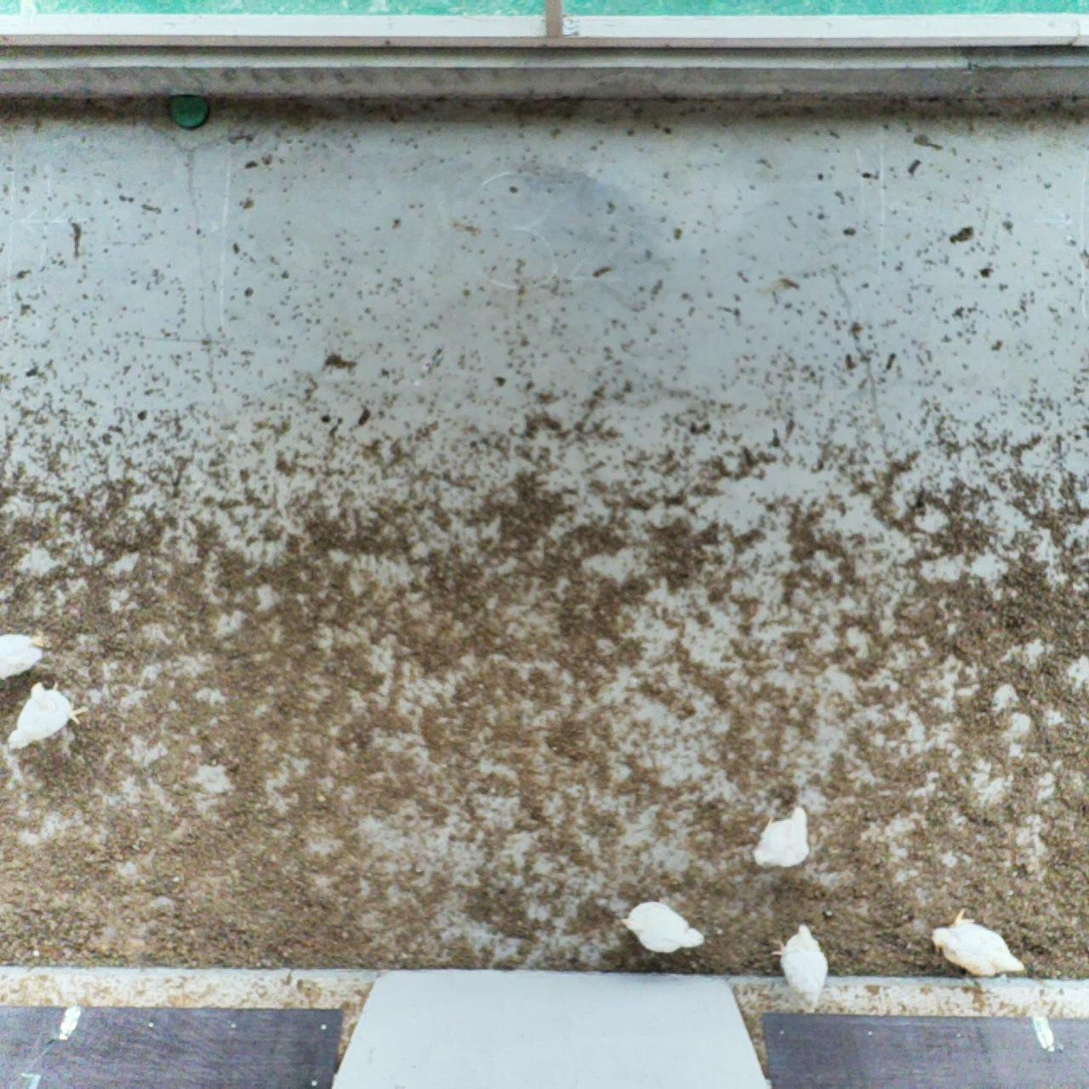chicken: (930, 906, 1030, 978), (3, 680, 92, 752), (617, 897, 707, 959), (770, 920, 831, 1011), (751, 803, 812, 871), (0, 631, 47, 684)
